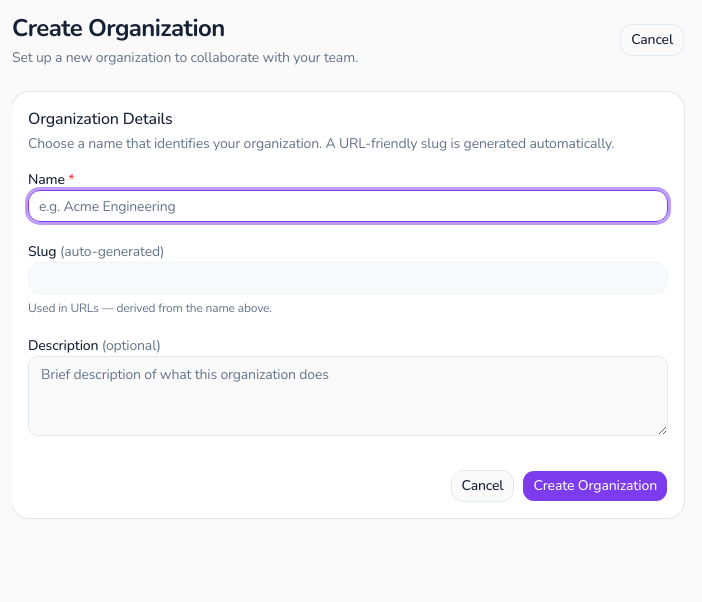
Scenario: NewOrgClient › shows API error on failure
The width and height of the screenshot is (702, 602).
Type "Existing Org" into the field labelled "Name *".
click(348, 206); type("Existing Org")  # box [28, 190, 668, 222]
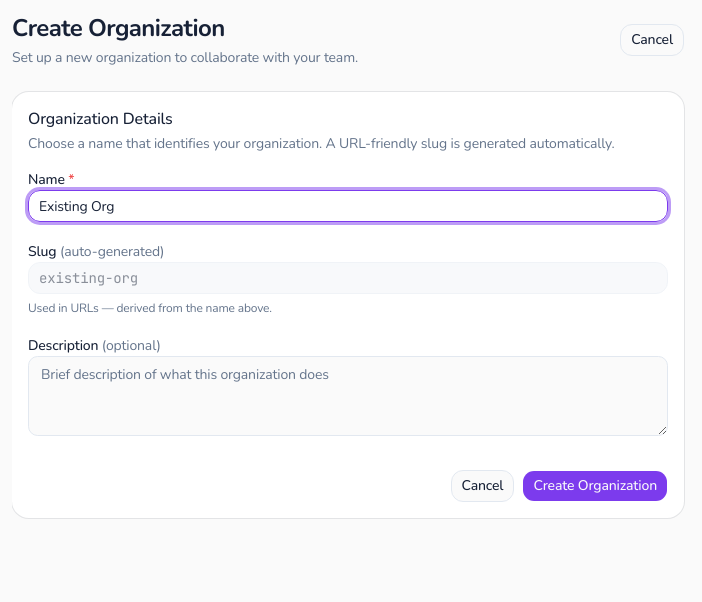
Click the button "Create Organization".
click(595, 486)  # box [522, 470, 668, 502]
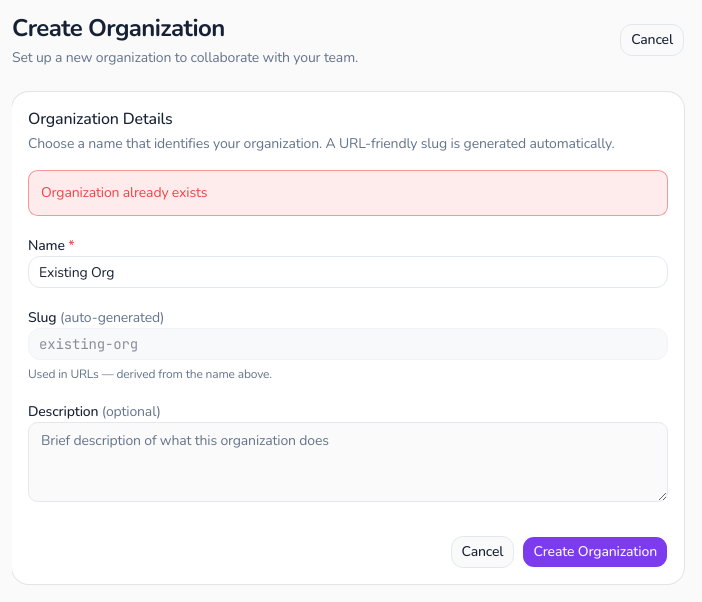
Now the text "Organization already exists" is shown, box [28, 170, 668, 216]
